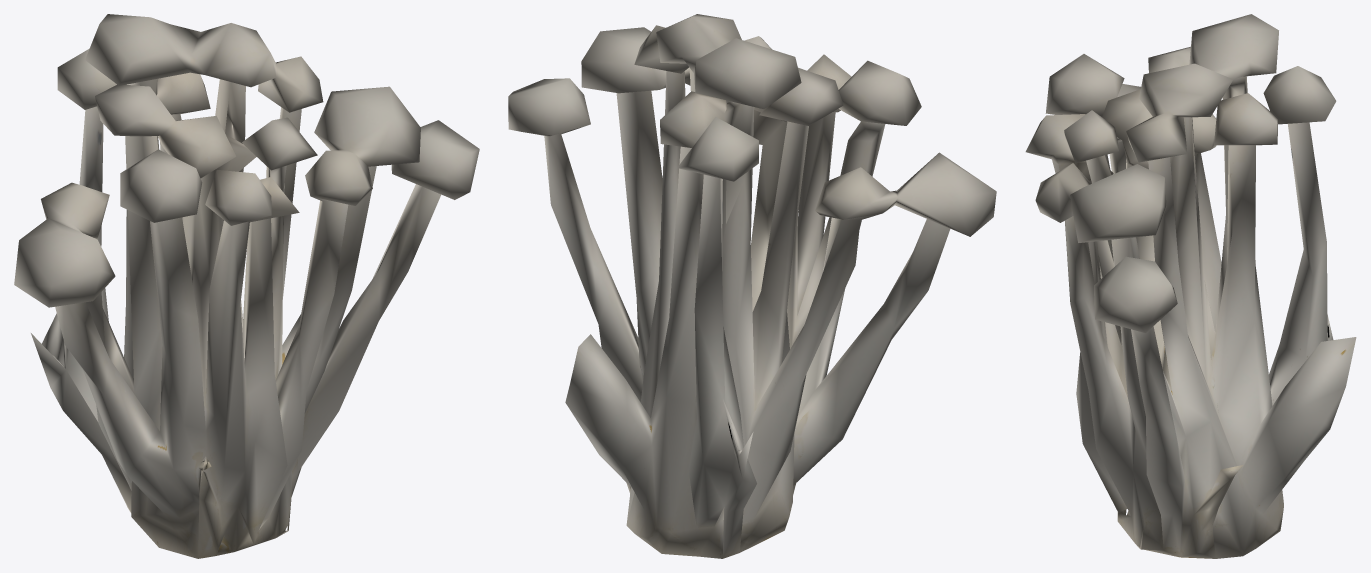
The model's file is ENOKI.obj.
The picture shows the model from 3 angles, left to right: view 1: azimuth 30°, elevation 25°; view 2: azimuth 150°, elevation 25°; view 3: azimuth 270°, elevation 25°; orthographic projection. The views are drawn at different scales.
Visible parts, largest first — view 1: tripo_node_81db18c2; view 2: tripo_node_81db18c2; view 3: tripo_node_81db18c2.
Boxes of the visible parts, x1,y1,x2,y2 form: tripo_node_81db18c2: [14, 14, 479, 558]; tripo_node_81db18c2: [508, 14, 996, 558]; tripo_node_81db18c2: [1025, 14, 1356, 558].
Size of the model in its own units: 0.953 by 0.9998 by 0.6217.
Materials: 1 (1 with a texture image).
